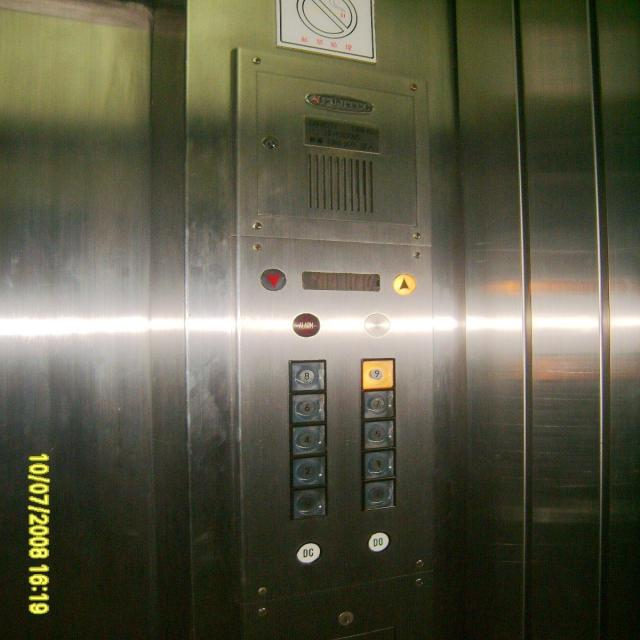0: (288, 485, 328, 519)
1: (360, 478, 395, 511)
2: (288, 456, 327, 489)
3: (360, 449, 397, 482)
4: (288, 424, 327, 458)
5: (360, 418, 398, 451)
6: (288, 392, 327, 427)
7: (360, 388, 397, 422)
8: (287, 358, 326, 393)
9: (360, 358, 396, 390)
DC: (295, 542, 323, 564)
DO: (366, 531, 391, 552)
down: (260, 268, 287, 292)
empty: (364, 313, 390, 337)
keyhole: (337, 611, 354, 625)
text: (292, 313, 321, 337)
up: (391, 272, 415, 296)
